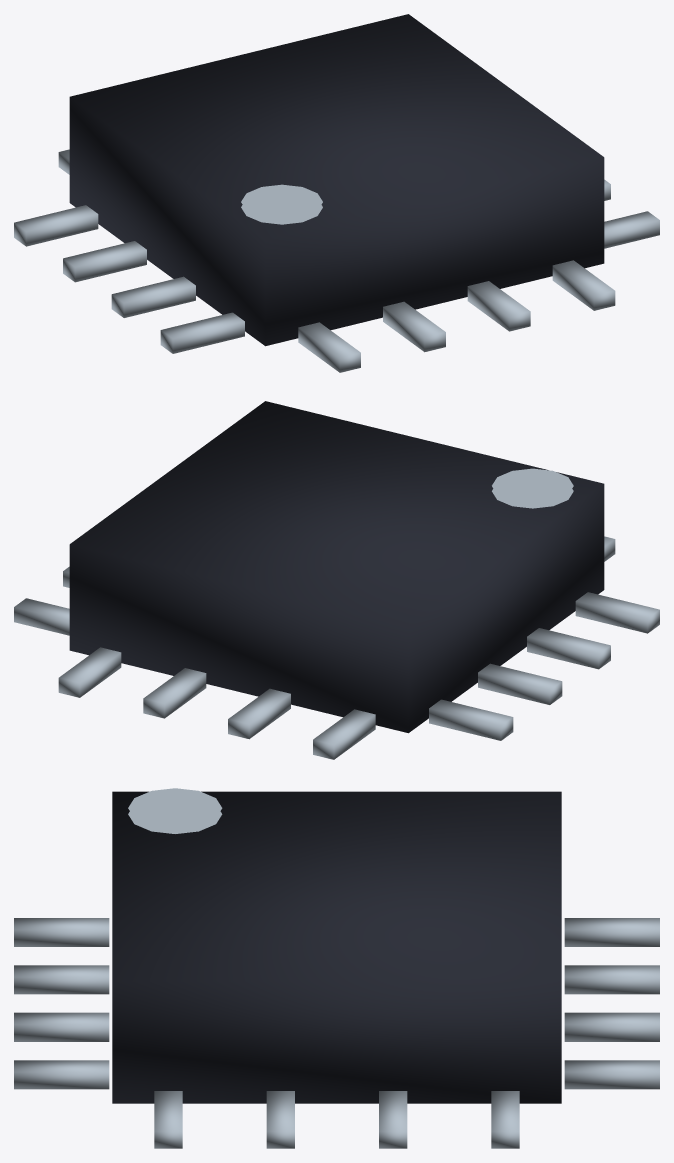
The picture shows the model from 3 angles, top to bottom: view 1: azimuth 30°, elevation 25°; view 2: azimuth 150°, elevation 25°; view 3: azimuth 270°, elevation 25°; orthographic projection. The views are drawn at different scales.
Parts seen in each view (by area): view 1: L105_SN1_chip, L105_SN1_silver; view 2: L105_SN1_chip, L105_SN1_silver; view 3: L105_SN1_chip, L105_SN1_silver.
Part boxes in pixels (box(x1,y1,x2,y2)): L105_SN1_chip: box(69, 14, 604, 346); L105_SN1_silver: box(14, 149, 659, 372); L105_SN1_chip: box(69, 401, 604, 733); L105_SN1_silver: box(14, 468, 659, 759); L105_SN1_chip: box(112, 791, 561, 1103); L105_SN1_silver: box(14, 788, 659, 1148).
Size of the model in its own units: 0.00575 by 0.00131 by 0.00575.
